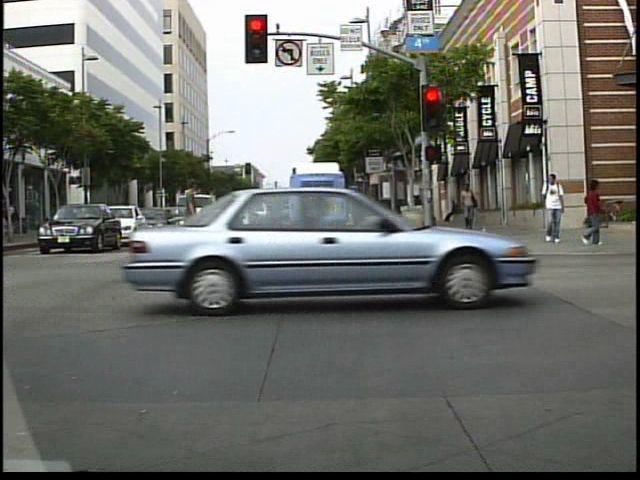person: (575, 178, 608, 249)
